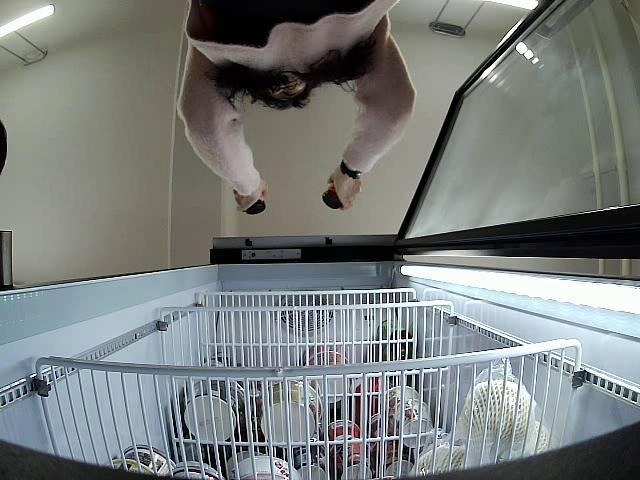17_vita500: (320, 182, 347, 208), (244, 192, 264, 214)
